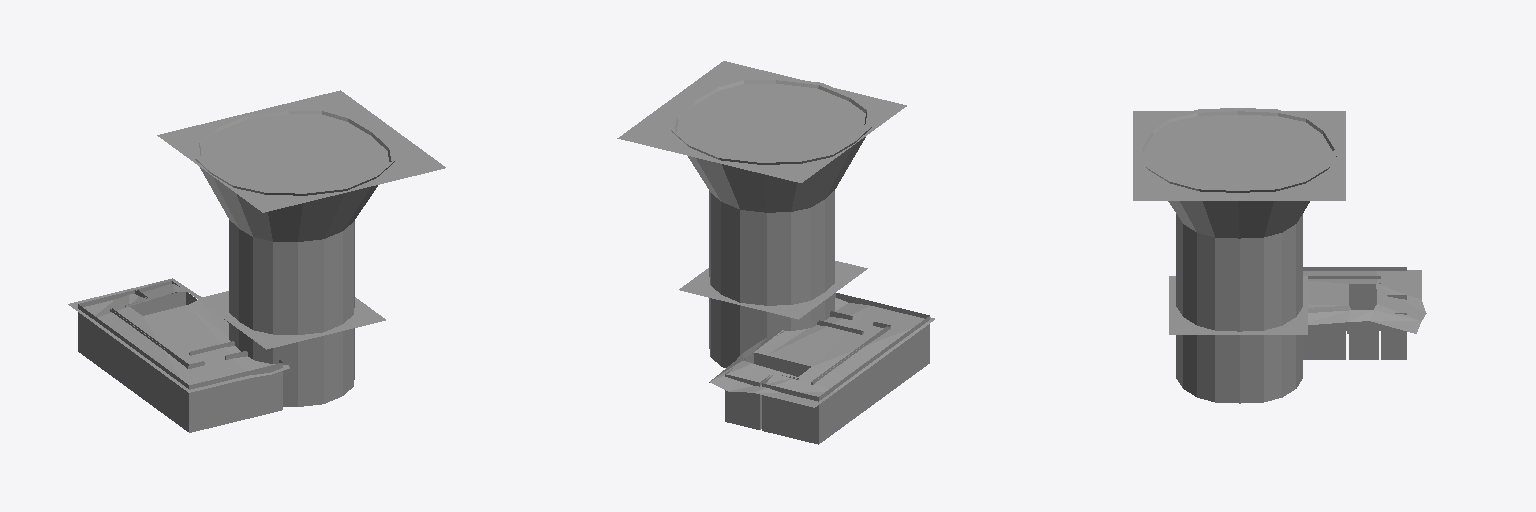
File: dungeon1INTERIOR.obj
The picture shows the model from 3 angles: view 1: azimuth 30°, elevation 25°; view 2: azimuth 150°, elevation 25°; view 3: azimuth 270°, elevation 25°; orthographic projection.
Parts seen in each view (by area): view 1: Plane, Plane.001, Cube, Plane.002, Plane.003; view 2: Plane, Plane.001, Cube, Plane.002, Plane.003; view 3: Plane, Plane.001, Plane.002, Cube, Plane.003.
Boxes of the visible parts, <box> form: Plane: <box>194,109,396,406</box>; Plane.001: <box>157,90,445,212</box>; Cube: <box>78,281,282,432</box>; Plane.002: <box>68,278,289,392</box>; Plane.003: <box>198,291,385,349</box>; Plane: <box>669,78,871,367</box>; Plane.001: <box>617,61,906,182</box>; Cube: <box>725,293,929,444</box>; Plane.002: <box>709,298,934,407</box>; Plane.003: <box>679,261,867,319</box>; Plane: <box>1135,108,1340,403</box>; Plane.001: <box>1133,111,1345,200</box>; Plane.002: <box>1303,270,1426,333</box>; Cube: <box>1303,267,1406,359</box>; Plane.003: <box>1169,276,1307,334</box>.
Bounding box in the file's own units: 39.12 × 36.73 × 42.21.